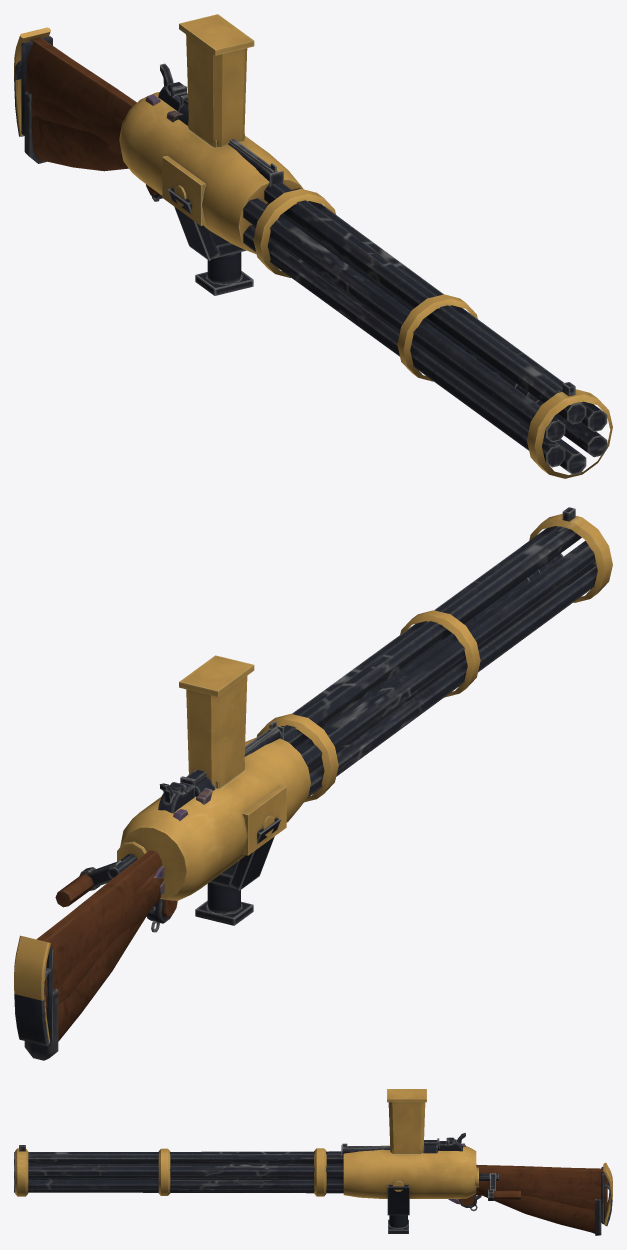
File: weapons.glb
3 views of the same model, one above another, from view 1: azimuth 30°, elevation 25°; view 2: azimuth 150°, elevation 25°; view 3: azimuth 270°, elevation 25° (orthographic). The views are drawn at different scales.
Visible parts, largest first — view 1: Gatling_Barrels, Gatling, Winchester, Sharps, Schofield, CoachGun, Springfield; view 2: Gatling_Barrels, Gatling, Winchester, Sharps, Springfield, Schofield, CoachGun; view 3: Gatling_Barrels, Gatling, Winchester, Sharps, Schofield, CoachGun, Springfield.
Boxes of the visible parts, x1,y1,x2,y2 form: Gatling_Barrels: (243, 182, 612, 478); Gatling: (119, 14, 575, 396); Winchester: (14, 27, 136, 135); Sharps: (24, 91, 517, 387); Schofield: (146, 63, 283, 201); CoachGun: (21, 36, 123, 154); Springfield: (14, 60, 539, 402); Gatling_Barrels: (257, 513, 612, 802); Gatling: (55, 507, 575, 925); Winchester: (14, 850, 162, 1042); Sharps: (24, 577, 529, 1060); Springfield: (14, 569, 540, 1046); Schofield: (146, 721, 283, 932); CoachGun: (46, 870, 163, 1039); Gatling_Barrels: (14, 1148, 343, 1196); Gatling: (19, 1089, 520, 1233); Winchester: (476, 1162, 612, 1225); Sharps: (448, 1190, 601, 1235); Schofield: (341, 1133, 477, 1211); CoachGun: (476, 1166, 604, 1224); Springfield: (461, 1143, 612, 1226).
Size of the model in its own units: 0.1571 by 0.366 by 1.42.
1 material, 1 textured.
